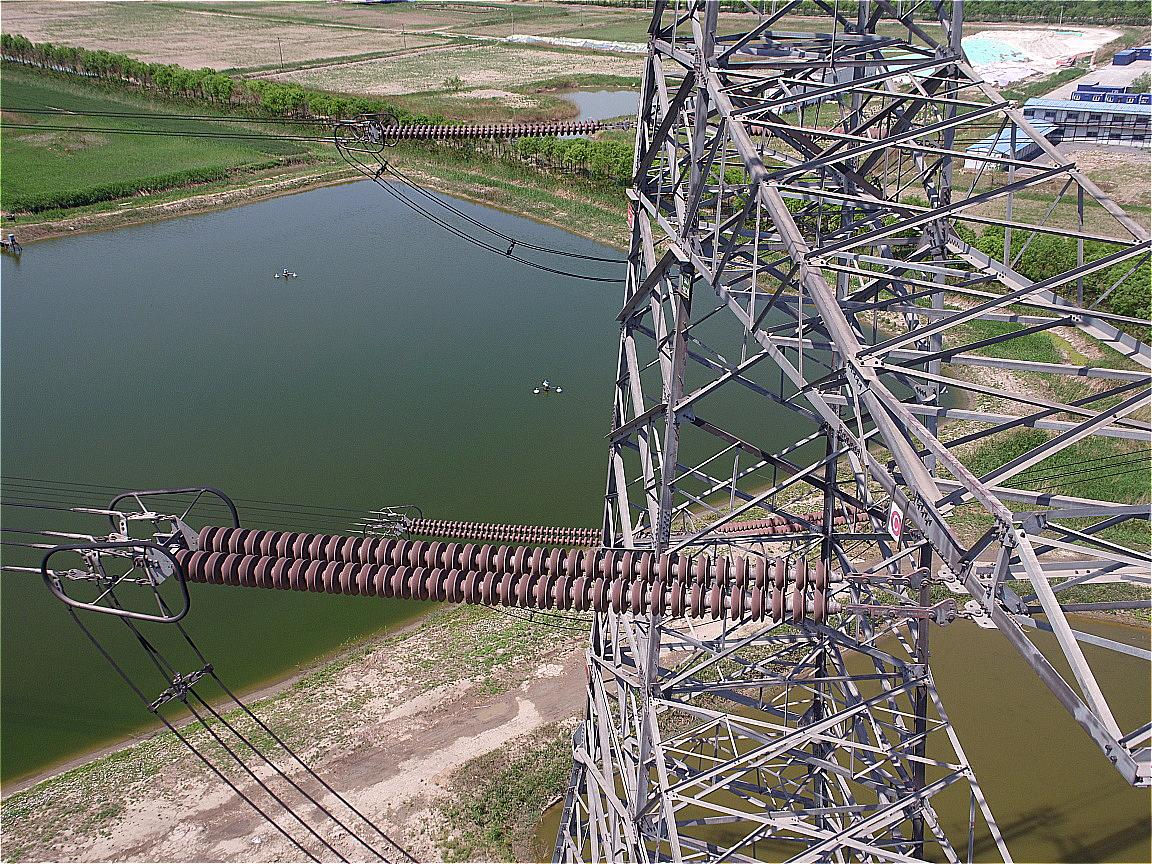insultor2: (178, 510, 859, 611)
